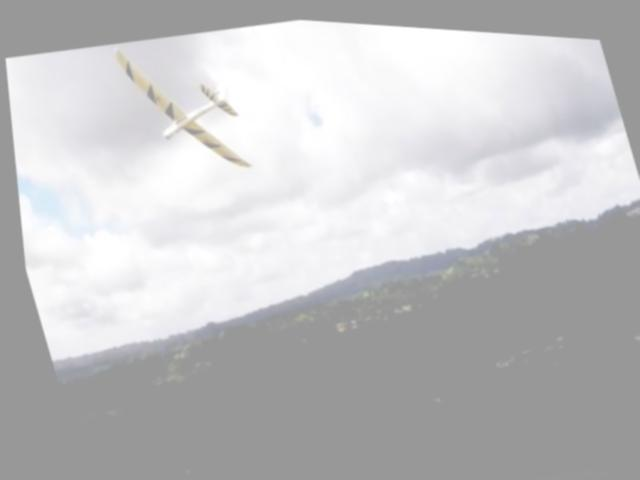iha: (111, 27, 252, 184)
